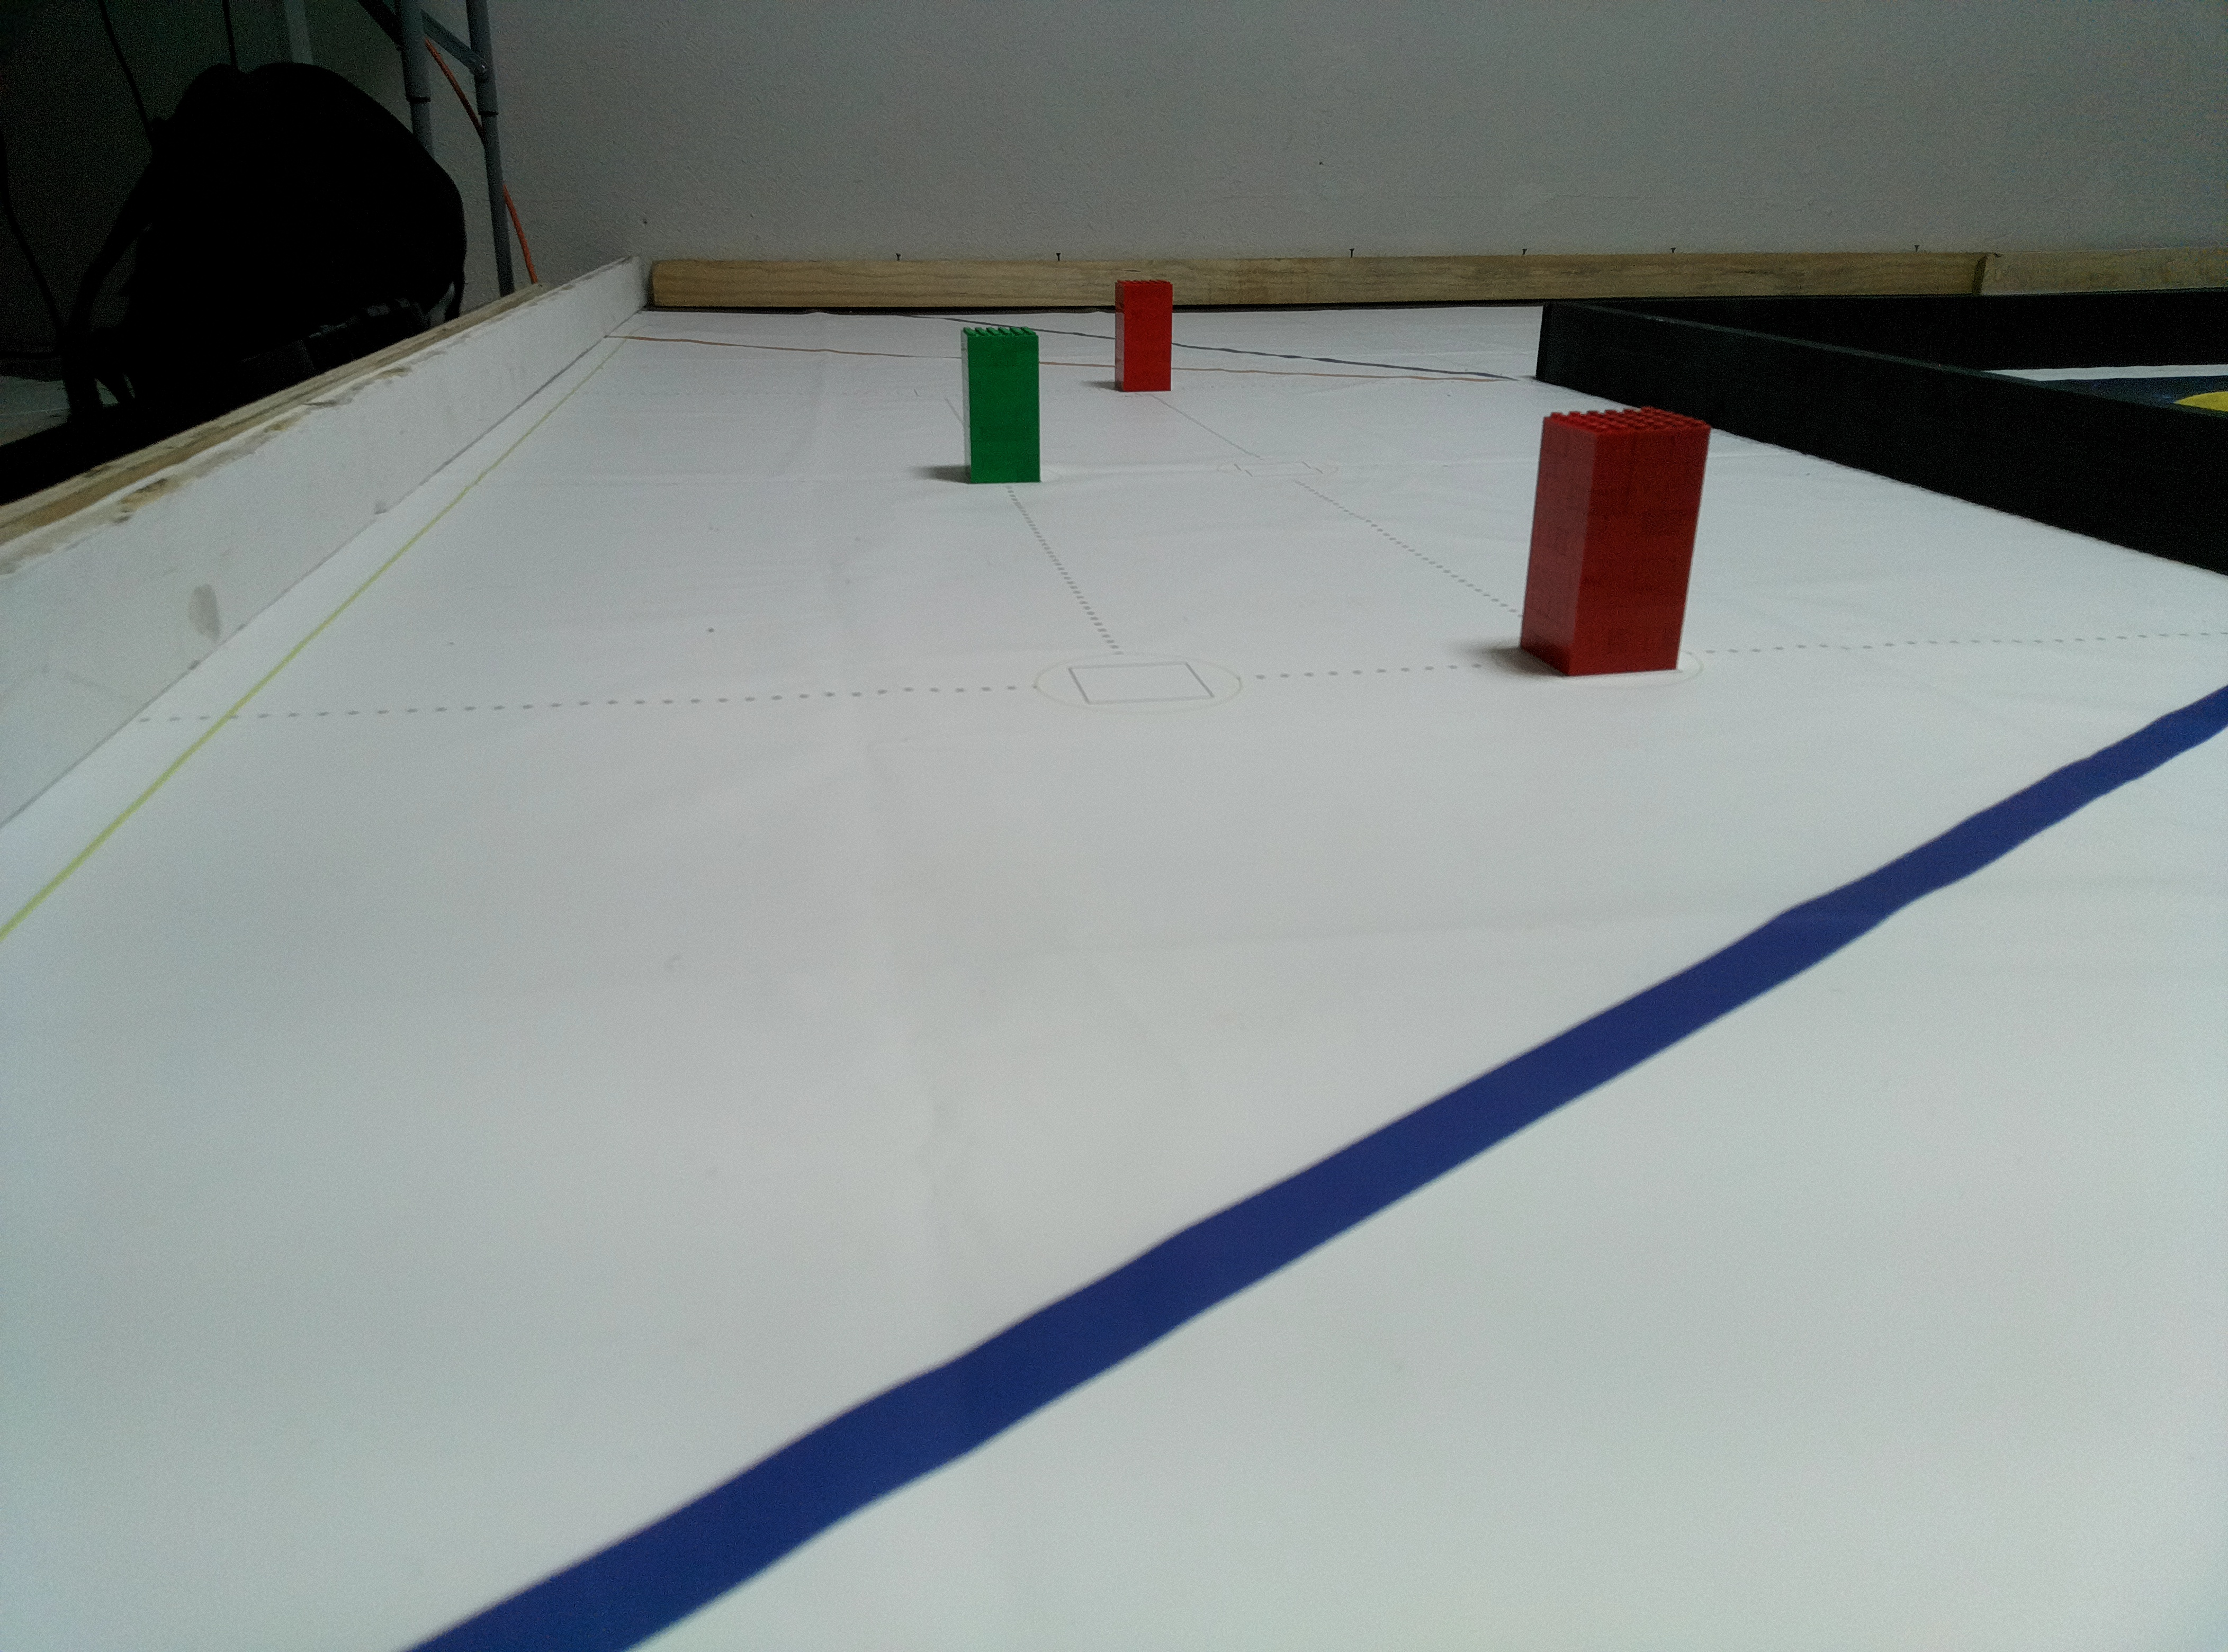greenbox: (960, 324, 1043, 484)
redbox: (1513, 406, 1714, 677), (1112, 279, 1175, 394)
